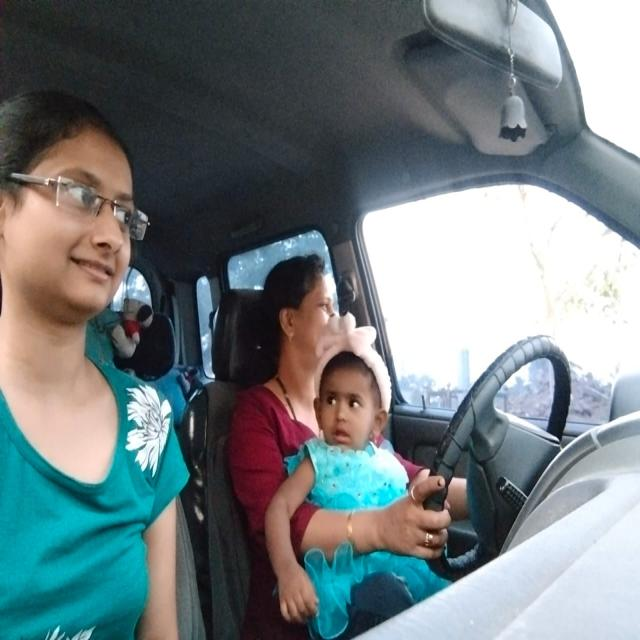child: (311, 335, 394, 467)
person: (0, 68, 149, 380), (253, 250, 353, 346)
